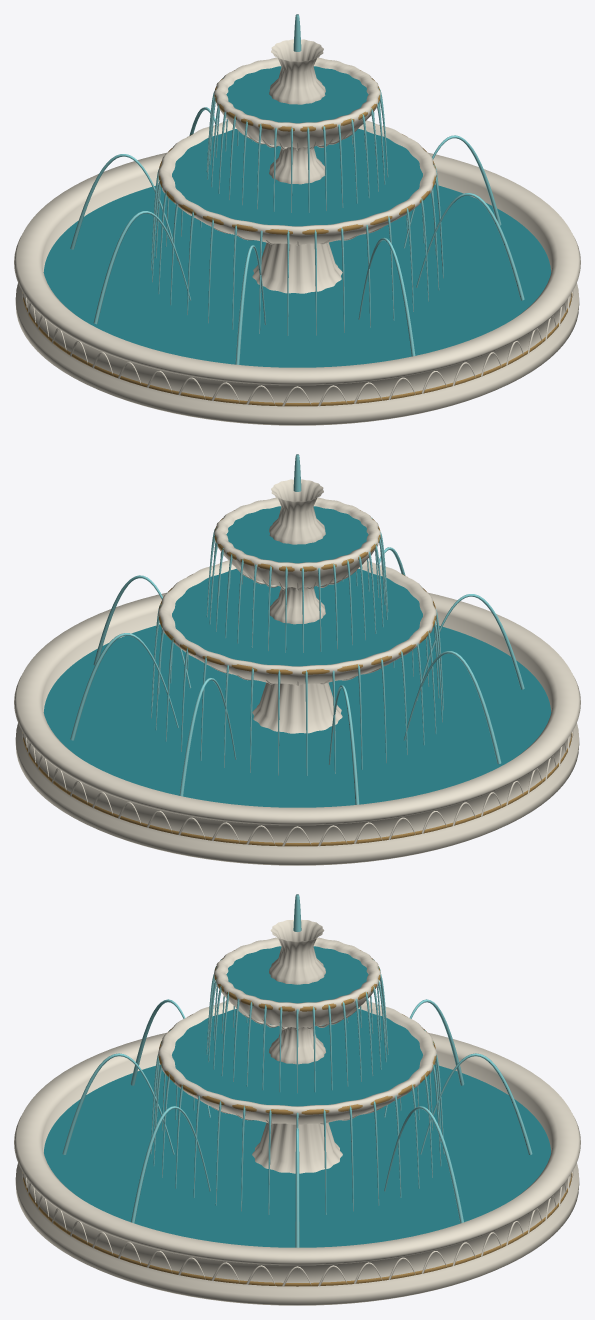
Rendered from FountainLOD0.fbx.
3 renders of one model, top to bottom at view 1: azimuth 30°, elevation 25°; view 2: azimuth 150°, elevation 25°; view 3: azimuth 270°, elevation 25°, orthographic.
Parts seen in each view (by area): view 1: Fountain; view 2: Fountain; view 3: Fountain.
Part boxes in pixels (x1=…): Fountain: x1=14, y1=14, x2=580, y2=425; Fountain: x1=14, y1=454, x2=580, y2=865; Fountain: x1=14, y1=894, x2=580, y2=1305.
Bounding box in the file's own units: 620 × 355 × 620.
